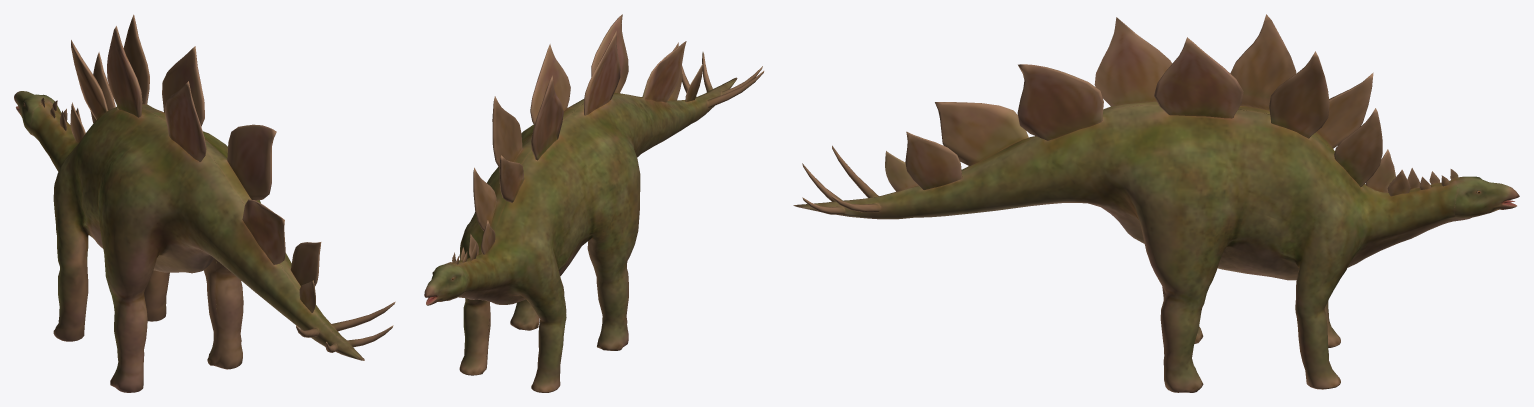
File: pbr-stegasaurus--animated-ec254e.glb
The picture shows the model from 3 angles, left to right: view 1: azimuth 30°, elevation 25°; view 2: azimuth 150°, elevation 25°; view 3: azimuth 270°, elevation 25°; orthographic projection. The views are drawn at different scales.
Parts seen in each view (by area): view 1: PropMesh; view 2: PropMesh; view 3: PropMesh.
Boxes of the visible parts, left/top/right/bottom form: PropMesh: left=14, top=14, right=395, bottom=392; PropMesh: left=424, top=14, right=764, bottom=392; PropMesh: left=793, top=14, right=1519, bottom=392.
Bounding box in the file's own units: 0.4142 × 0.9291 × 1.8.
2 materials, 2 textured.
